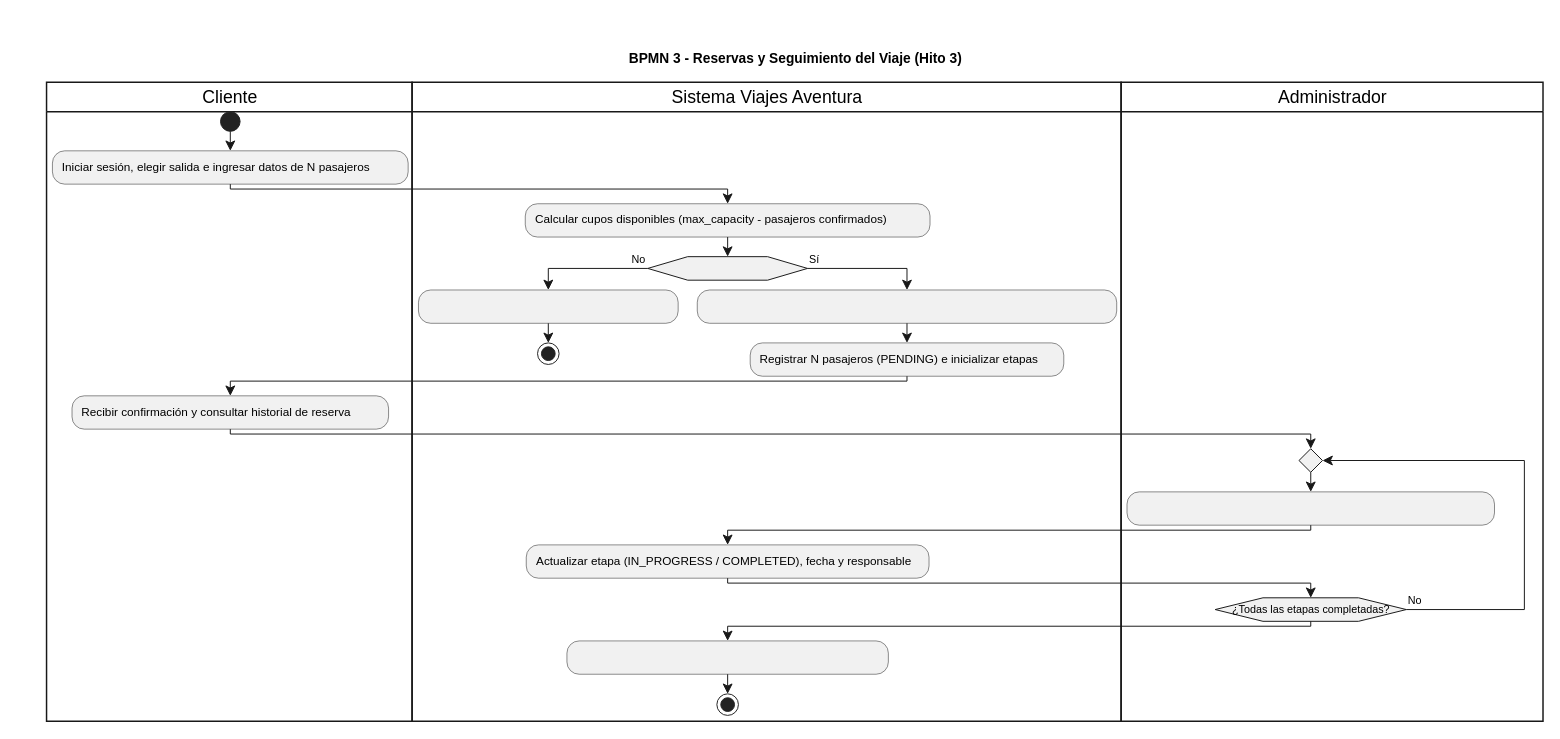
This 1560x739 diagram has some shape labels left out. Each missing label, with the box of its shape:
Actualizar estado general del pasajero a COMPLETED: (566, 640, 888, 674)
Congelar precio (contracted_unit_price) y guardar reserva CONFIRMED: (697, 289, 1117, 323)
Rechazar solicitud por cupos insuficientes: (418, 289, 678, 323)
Registrar avance del pasajero en la etapa actual del itinerario: (1126, 491, 1494, 525)
¿Cupos disponibles >= N?: (647, 256, 808, 280)
